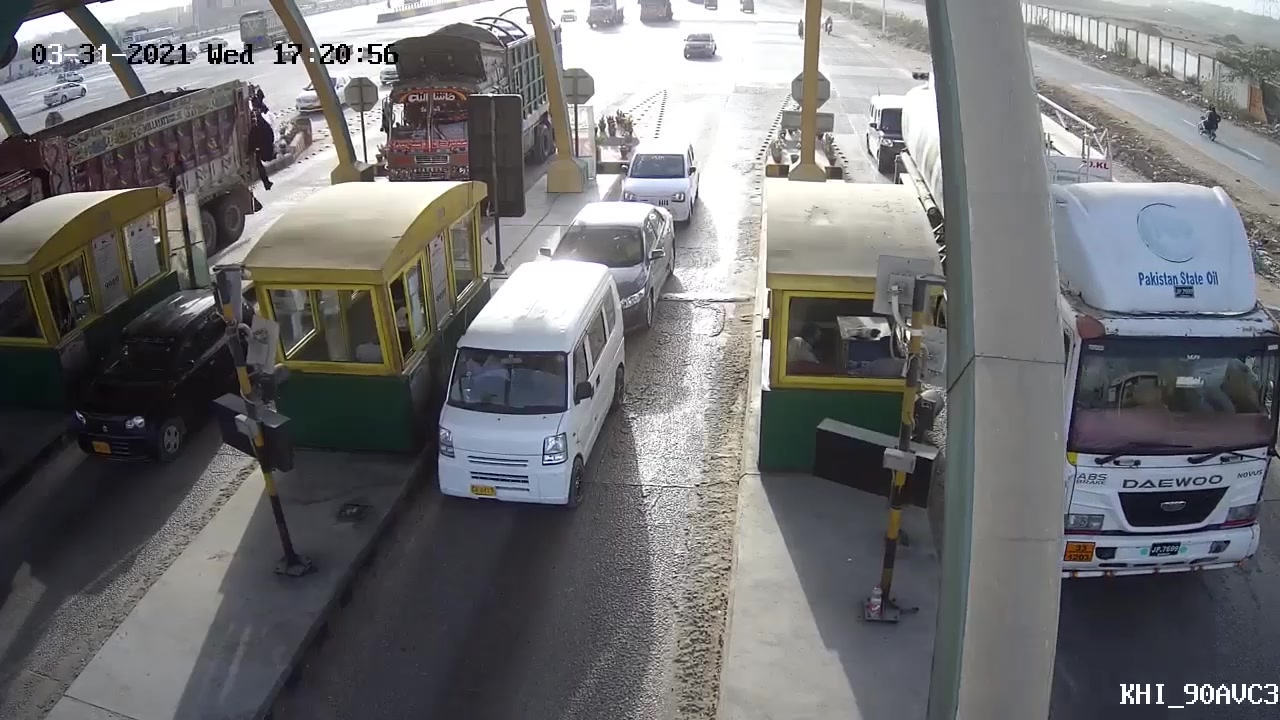F1: (424, 262, 630, 516)
